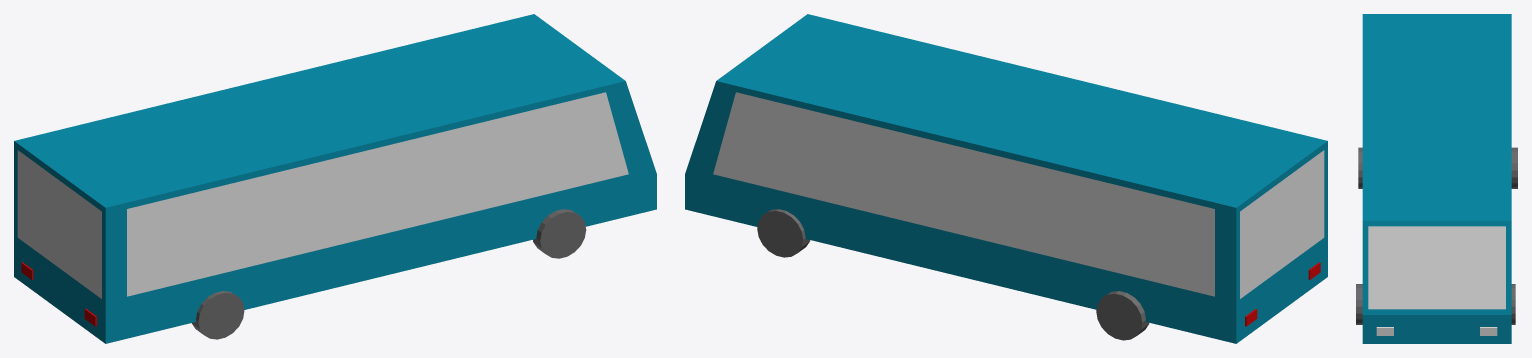
The model's file is Blue Bus.fbx.
3 renders of one model, left to right at view 1: azimuth 30°, elevation 25°; view 2: azimuth 150°, elevation 25°; view 3: azimuth 270°, elevation 25°, orthographic. The views are drawn at different scales.
Parts seen in each view (by area): view 1: Bus; view 2: Bus; view 3: Bus.
Part boxes in pixels (x1=…): Bus: x1=14, y1=14, x2=656, y2=343; Bus: x1=685, y1=14, x2=1327, y2=343; Bus: x1=1356, y1=14, x2=1517, y2=343.
Size of the model in its own units: 18207 by 4935 by 5634.
